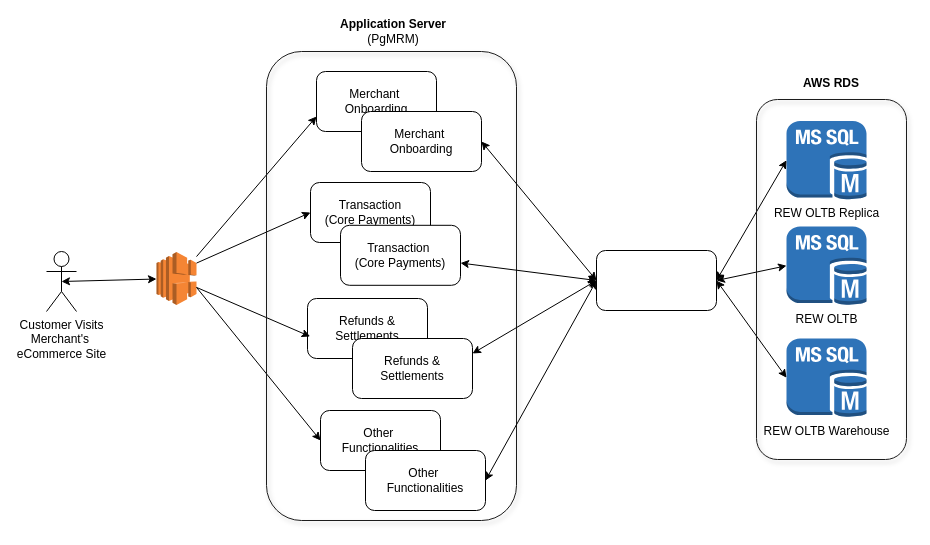
The diagram is 930 pixels wide and 545 high, and some of its shapes have lost their labels. The shapes that lost their labels are listed below. From the top down, each one's centre as x and y in pixels, then its label:
pixel 176 278: ELB
pixel 656 280: API Server (PgBiz)
